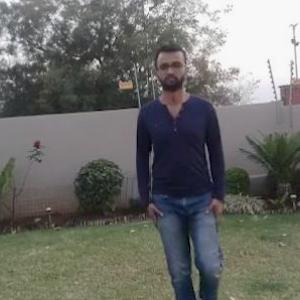follow: (143, 47, 226, 299)
